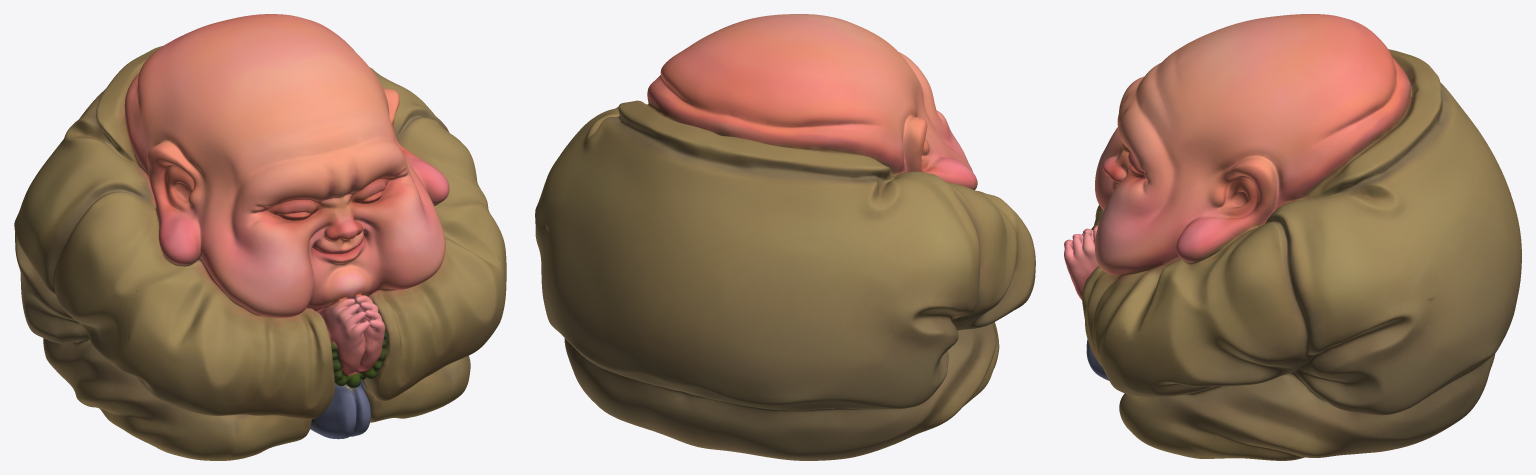
Rendered from buda.gltf.
The picture shows the model from 3 angles, left to right: view 1: azimuth 30°, elevation 25°; view 2: azimuth 150°, elevation 25°; view 3: azimuth 270°, elevation 25°; orthographic projection.
Visible parts, largest first — view 1: Object_2, Object_3; view 2: Object_2, Object_3; view 3: Object_2, Object_3.
Boxes of the visible parts, x1=… form: Object_2: x1=14, y1=14, x2=506, y2=460; Object_3: x1=21, y1=15, x2=489, y2=456; Object_2: x1=535, y1=14, x2=1035, y2=460; Object_3: x1=536, y1=16, x2=1035, y2=458; Object_2: x1=1064, y1=14, x2=1521, y2=460; Object_3: x1=1064, y1=14, x2=1521, y2=454.
Size of what is drawn, in the model's own units: 1.85 by 1.55 by 1.77.
Materials: 1 (1 with a texture image).
